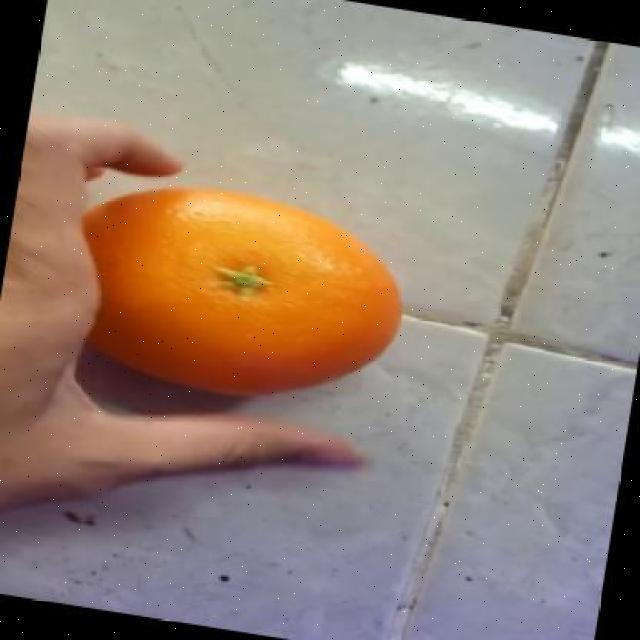Orange: (79, 183, 402, 395)
